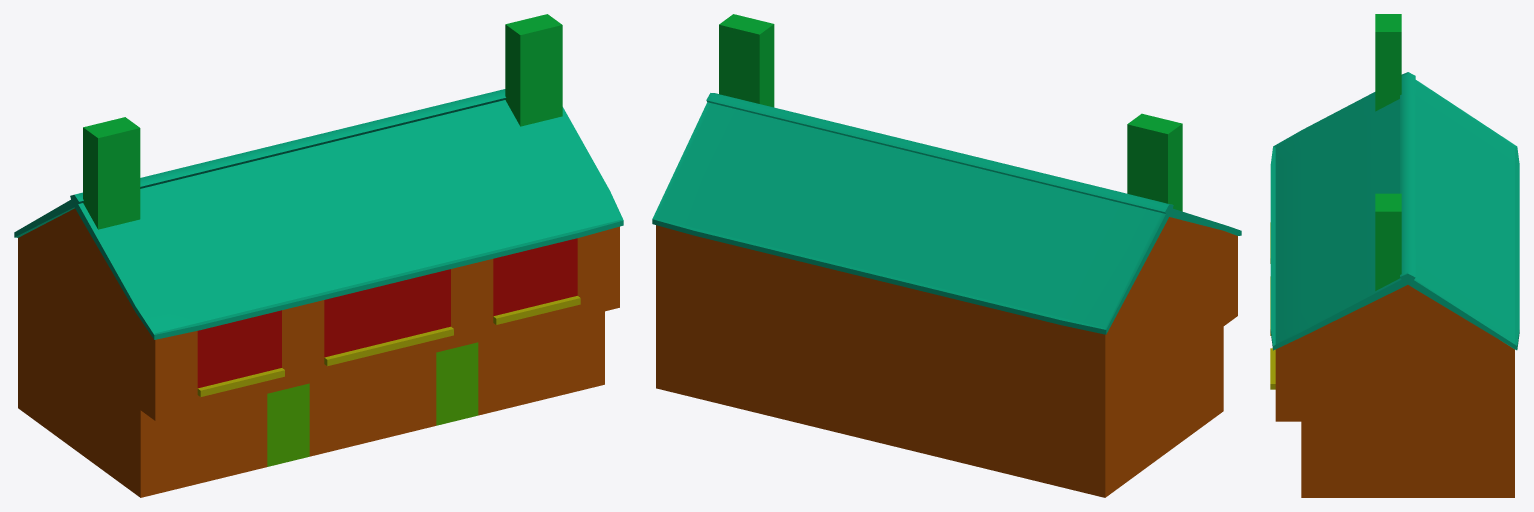
The model's file is Low Income Housing.fbx.
3 views of the same model, side by side, from view 1: azimuth 30°, elevation 25°; view 2: azimuth 150°, elevation 25°; view 3: azimuth 270°, elevation 25° (orthographic). The views are drawn at different scales.
Visible parts, largest first — view 1: pCube3; view 2: pCube3; view 3: pCube3.
Boxes of the visible parts, box(x1,y1,x2,y2) form: pCube3: box(14, 14, 623, 497); pCube3: box(652, 14, 1241, 497); pCube3: box(1270, 14, 1519, 497).
Bounding box in the file's own units: 23.68 × 15.68 × 12.38.
